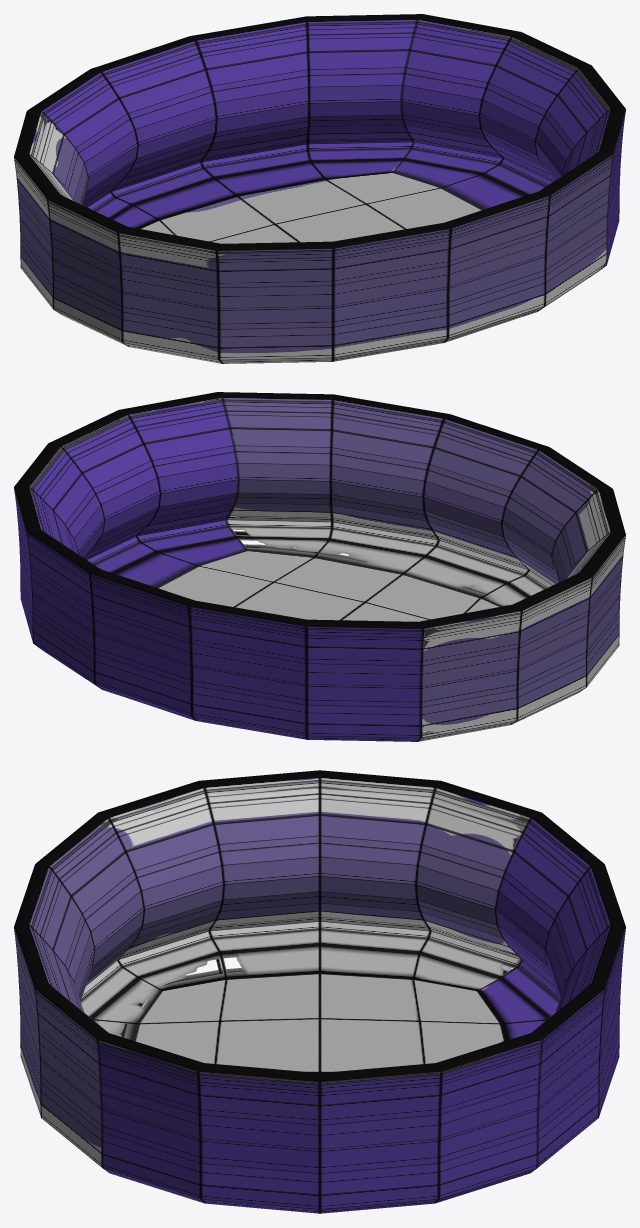
The model's file is Bowl.fbx.
3 views of the same model, one above another, from view 1: azimuth 30°, elevation 25°; view 2: azimuth 150°, elevation 25°; view 3: azimuth 270°, elevation 25° (orthographic). The views are drawn at different scales.
Parts seen in each view (by area): view 1: Cube; view 2: Cube; view 3: Cube.
Part boxes in pixels (left/top/right/bottom): Cube: left=14, top=14, right=625, bottom=363; Cube: left=14, top=392, right=625, bottom=741; Cube: left=14, top=770, right=625, bottom=1213.
Size of the model in its own units: 535 by 121 by 445.
Materials: 1 (1 with a texture image).
